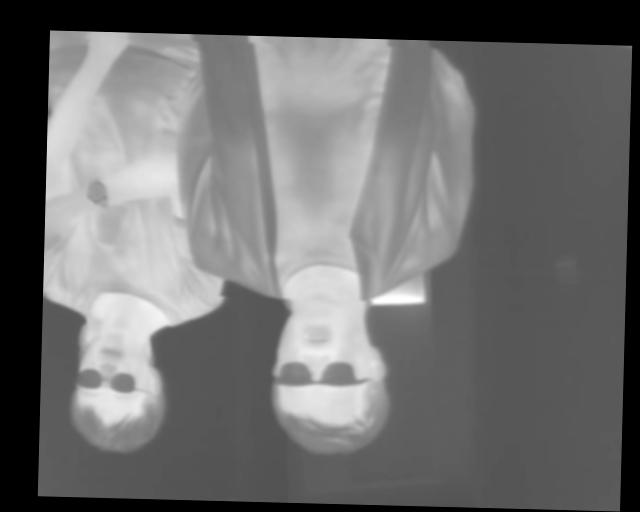face: (267, 298, 394, 458), (68, 331, 168, 454)
